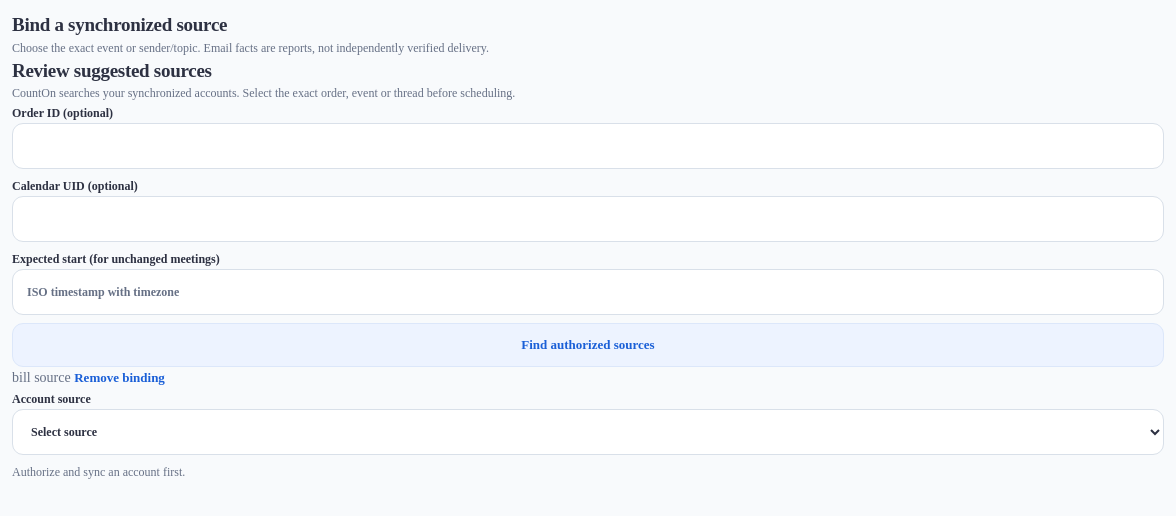
Test: refreshes shared detail only after a successful source removal (failure=true)
Step 1. Click the button "Remove binding" → (120, 378), box [74,368,165,389]
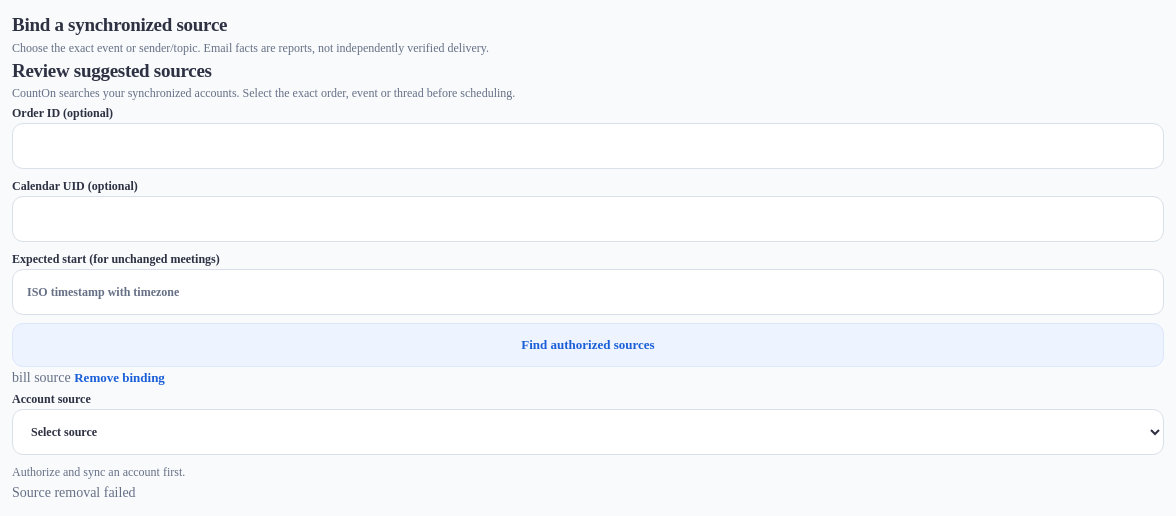
Now the message reads "Source removal failed", box [12,485,136,500]
